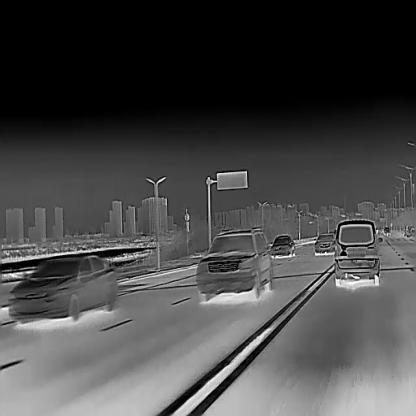car: (7, 252, 117, 322), (194, 226, 273, 300), (334, 218, 382, 285), (269, 234, 295, 258), (313, 233, 336, 256)
